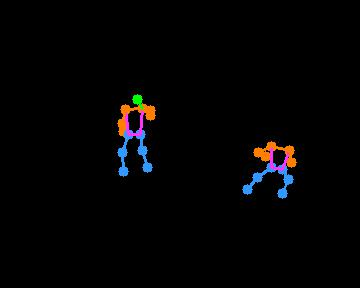normal: (237, 133, 303, 210), (115, 88, 158, 182)
